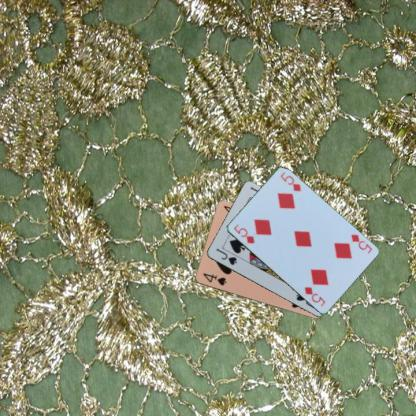4s: (200, 270, 228, 288)
5d: (231, 221, 255, 245), (349, 232, 374, 254)
Js: (213, 246, 238, 266)
